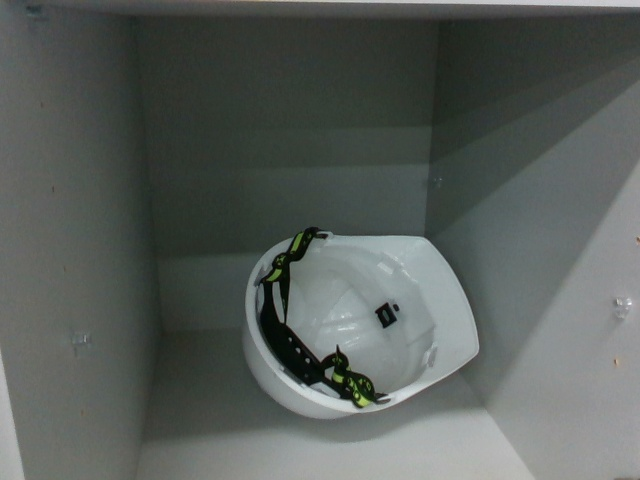helmet: (237, 224, 487, 428)
